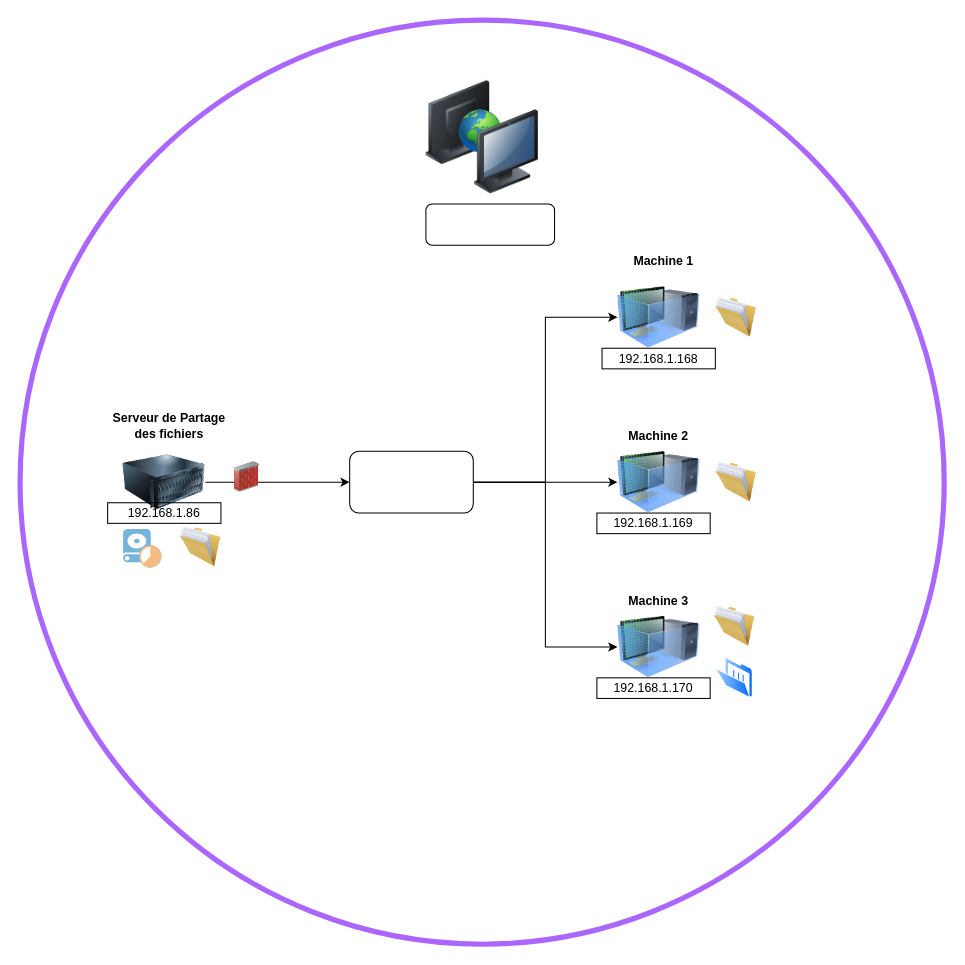
This 965x965 diagram has some shape labels left out. Each missing label, with the centre of its shape:
"Réseau local" goes at pixel 490 224.
"SAMBA" goes at pixel 411 481.
